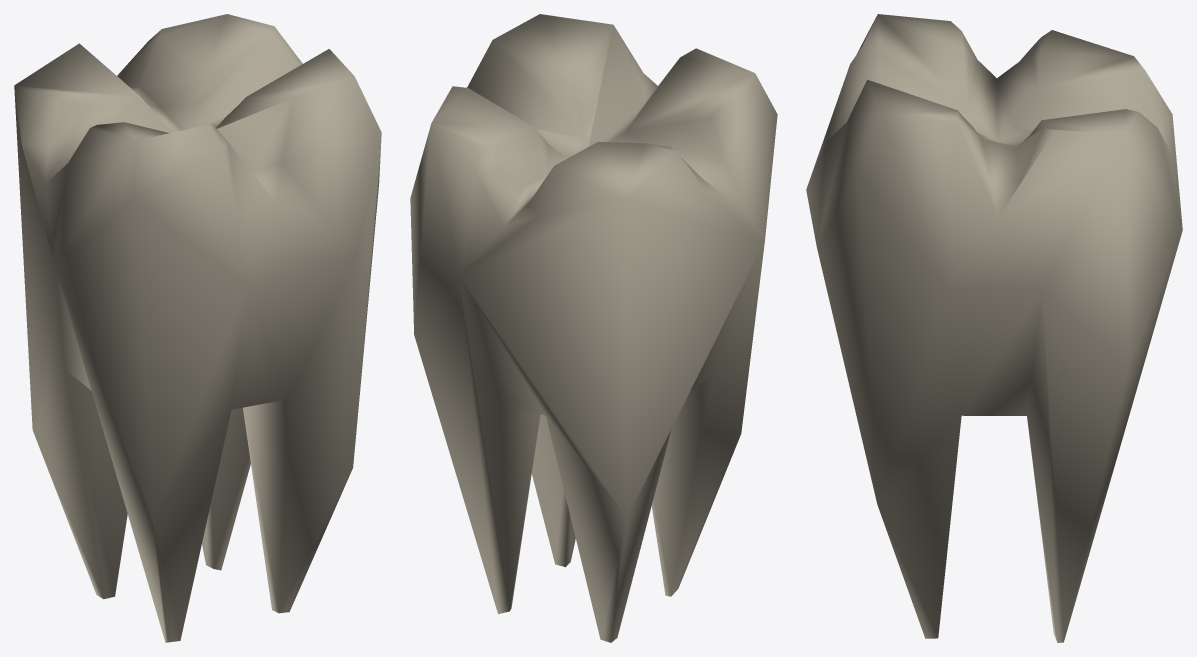
The model's file is molar_low.glb.
The picture shows the model from 3 angles, left to right: view 1: azimuth 30°, elevation 25°; view 2: azimuth 150°, elevation 25°; view 3: azimuth 270°, elevation 25°; orthographic projection. The views are drawn at different scales.
Parts seen in each view (by area): view 1: molar_low; view 2: molar_low; view 3: molar_low.
Part boxes in pixels (x1,y1,x2,y2): molar_low: (14, 14, 381, 642); molar_low: (410, 14, 777, 642); molar_low: (806, 14, 1182, 642).
Bounding box in the file's own units: 0.0126 × 0.0203 × 0.0126.
Materials: 1 (1 with a texture image).
